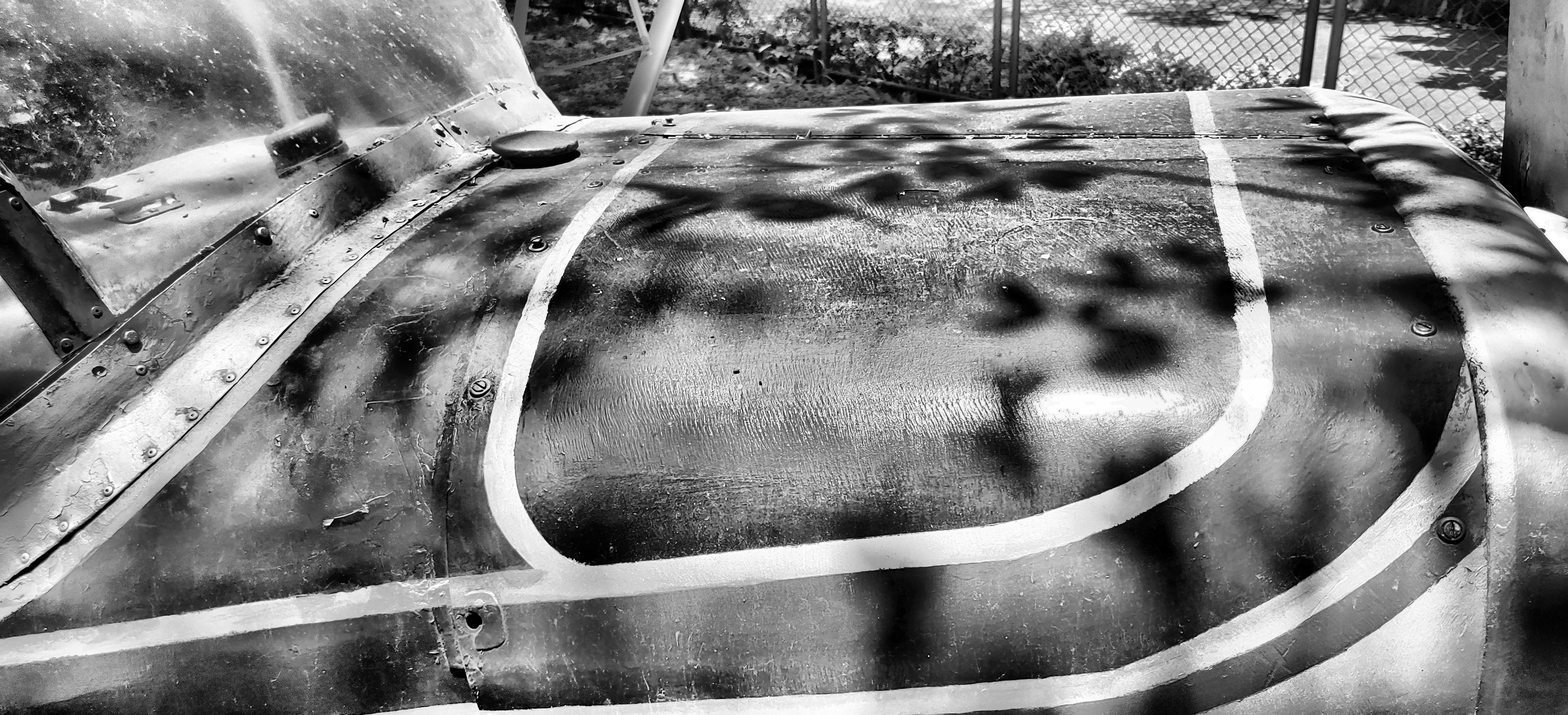missing-head: (464, 612, 483, 631), (90, 364, 107, 378)
paint-peel-off: (20, 501, 74, 545), (320, 505, 369, 527), (1518, 167, 1533, 205)
scratch: (1268, 574, 1348, 679)
